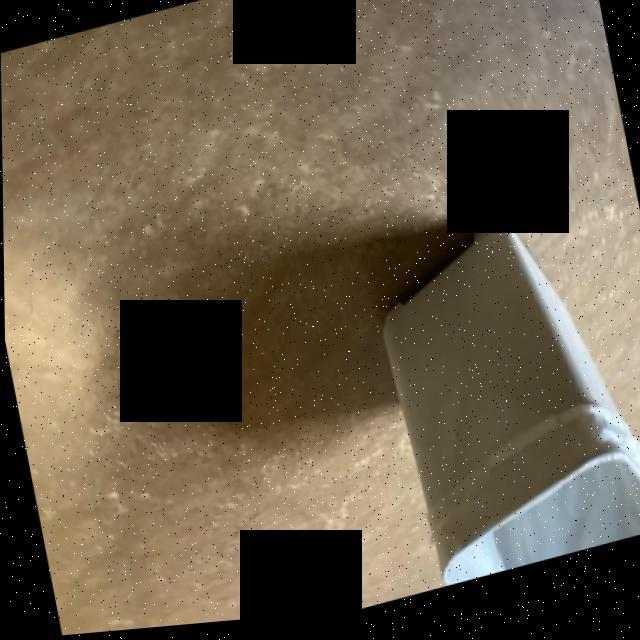bin: (309, 160, 640, 613)
